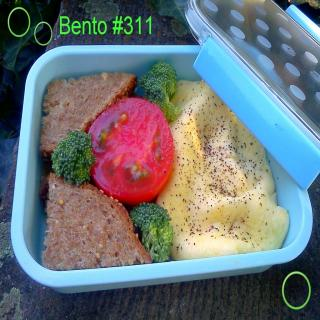Broccoli: (48, 128, 97, 188), (138, 60, 182, 124), (129, 200, 173, 261)
